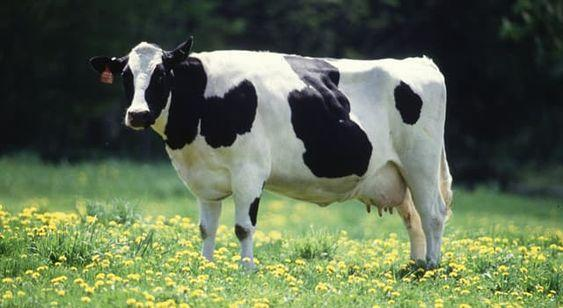cow: (72, 21, 480, 275)
